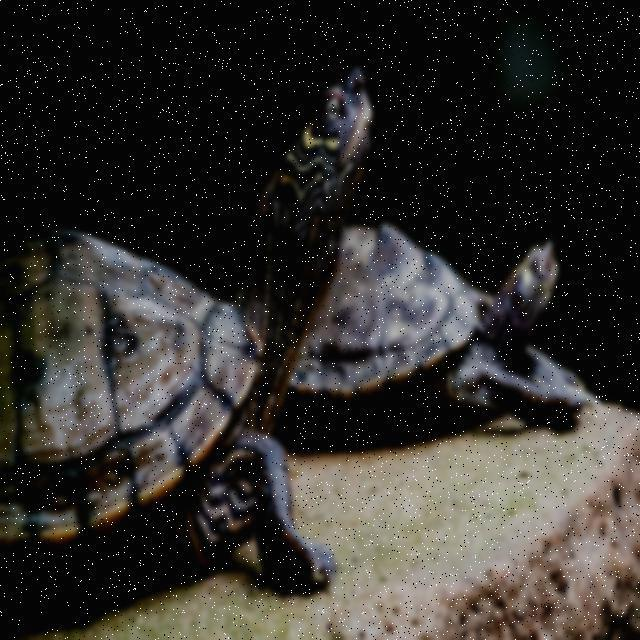tortoise: (0, 72, 385, 603), (292, 206, 580, 457)
